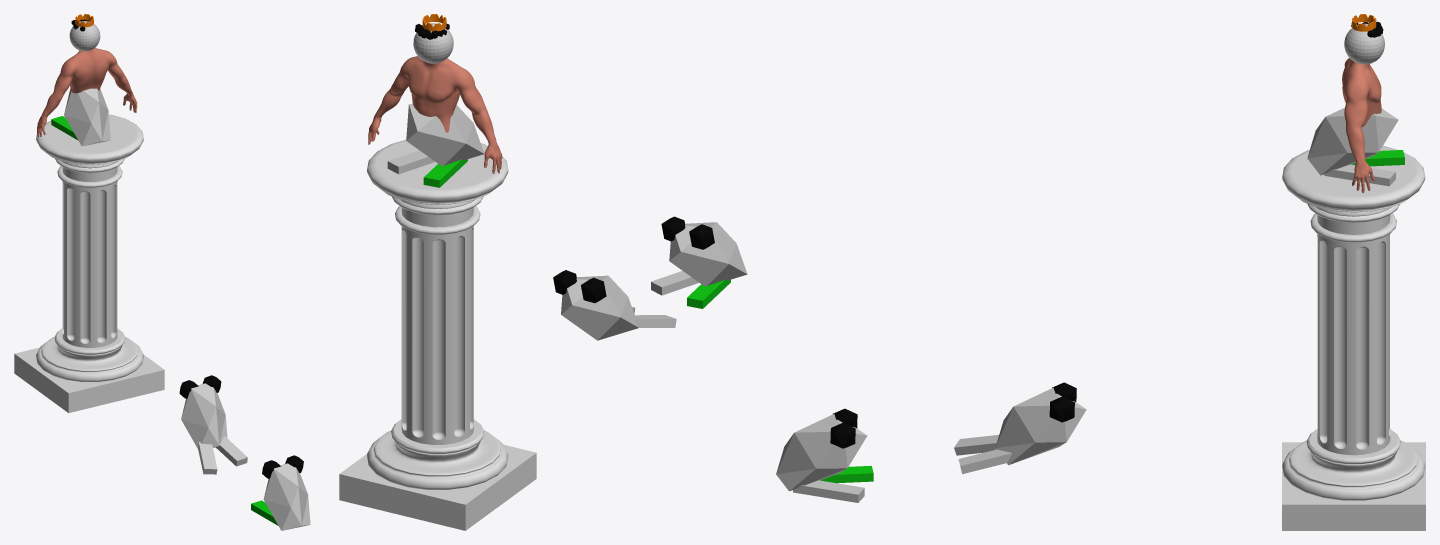
The model's file is material groups.obj.
3 views of the same model, side by side, from view 1: azimuth 30°, elevation 25°; view 2: azimuth 150°, elevation 25°; view 3: azimuth 270°, elevation 25° (orthographic). The views are drawn at different scales.
Visible parts, largest first — view 1: object5, object1, Icosphere.003, Icosphere.002; view 2: object5, object1, Icosphere.002, Icosphere.003; view 3: object5, object1, Icosphere.002, Icosphere.003.
Boxes of the visible parts, x1,y1,x2,y2 form: object5: (14,114,164,412); object1: (37,14,137,146); Icosphere.003: (179,375,247,474); Icosphere.002: (251,455,310,530); object5: (339,140,536,530); object1: (368,14,502,187); Icosphere.002: (651,216,747,308); Icosphere.003: (553,270,676,340); object5: (1282,145,1425,530); object1: (1307,14,1404,192); Icosphere.002: (776,408,873,502); Icosphere.003: (954,382,1086,473).
Size of the model in its own units: 4.33 by 15.16 by 18.61.
